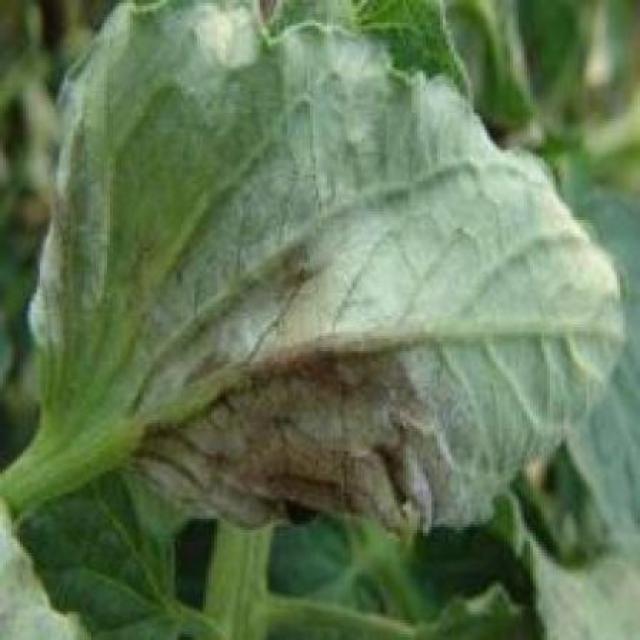Late Blight: (31, 0, 629, 553)
